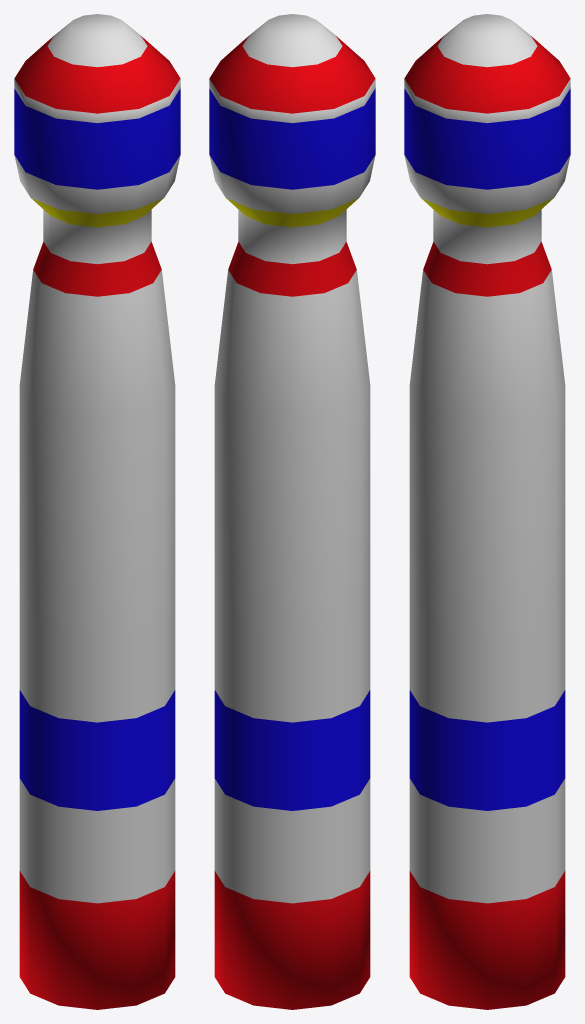
File: bowlingpin.gltf
The picture shows the model from 3 angles, left to right: view 1: azimuth 30°, elevation 25°; view 2: azimuth 150°, elevation 25°; view 3: azimuth 270°, elevation 25°; orthographic projection.
Parts seen in each view (by area): view 1: Circle; view 2: Circle; view 3: Circle.
Boxes of the visible parts, box(x1,y1,x2,y2) form: Circle: box(14, 14, 180, 1009); Circle: box(209, 14, 375, 1009); Circle: box(404, 14, 570, 1009).
Size of the model in its own units: 0.0241 by 0.1519 by 0.0241.
